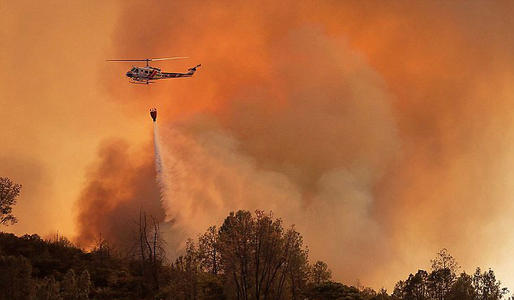smoke: (233, 11, 504, 220), (11, 10, 84, 192), (84, 148, 148, 235)
